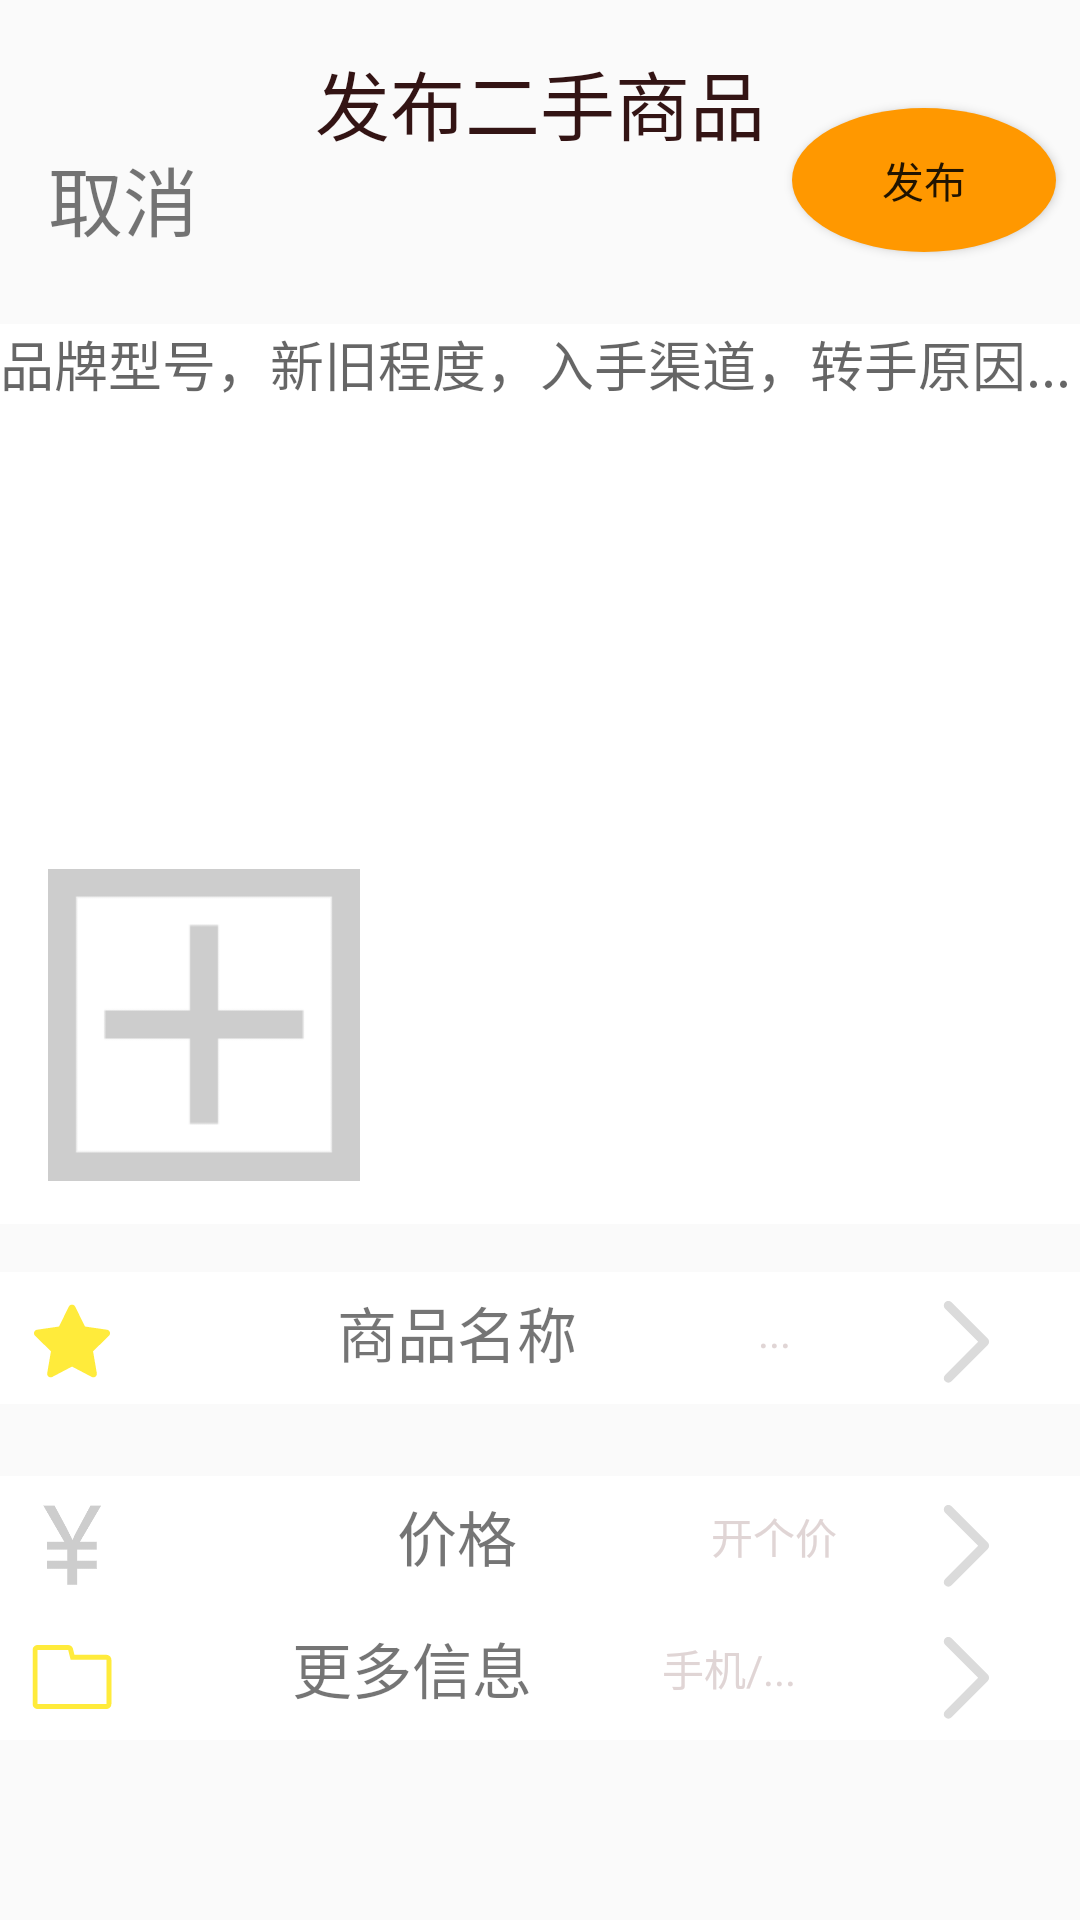

Icon bounding boxes for this 1080 x 1920 phone screenshot, format (x1,y1,x2,y2):
arrow: (944,1301,989,1383), (944,1505,989,1587), (944,1637,989,1719)
favorite: (34,1304,110,1378)
money: (44,1506,101,1585)
picture add: (48,869,360,1181)
